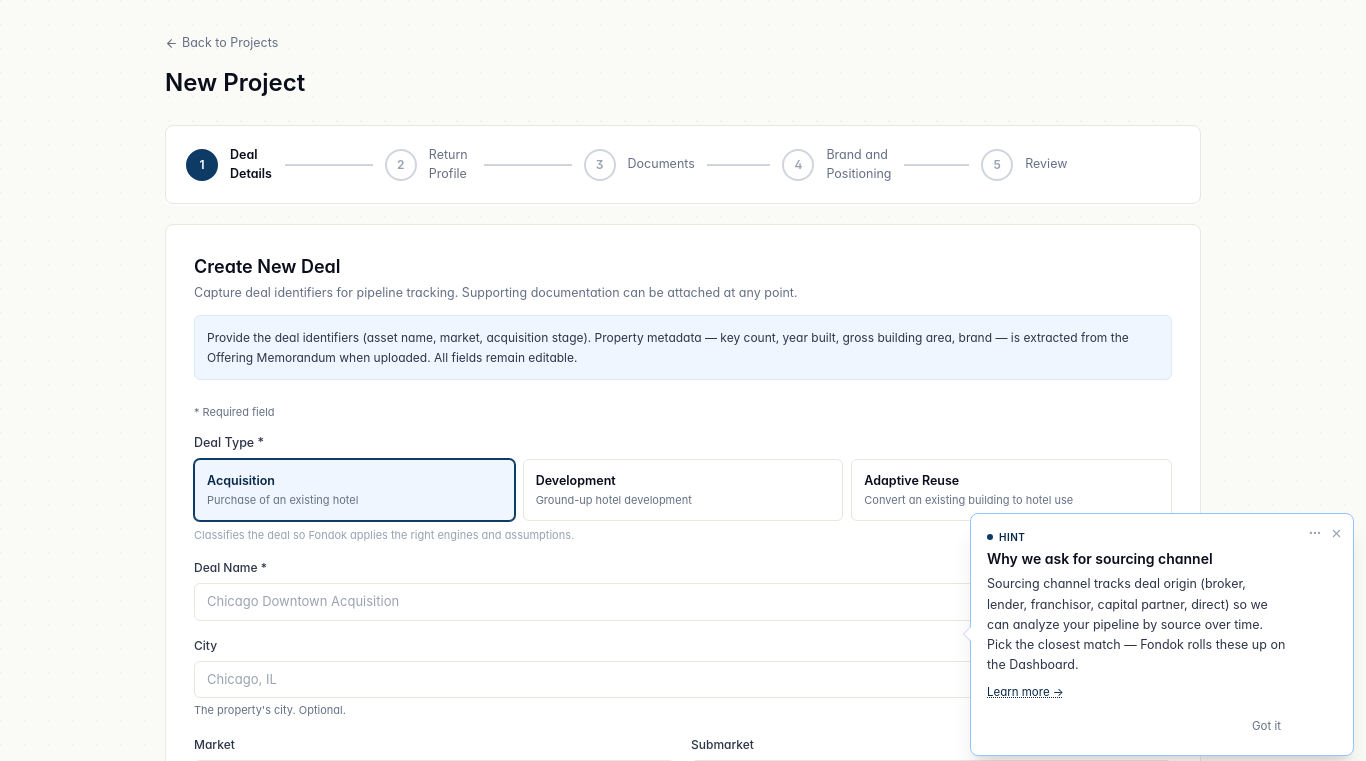
Scenario: FON-79 — the draft row is created on the first named autosave › creates the draft once the Deal Name is non-blank, keeps the pointer, drops the local draft
The width and height of the screenshot is (1366, 761).
Type "Autosaved Deal" into the field with placeholder "Chicago Downtown Acquisition" at [683, 602], box [194,583,1172,621]
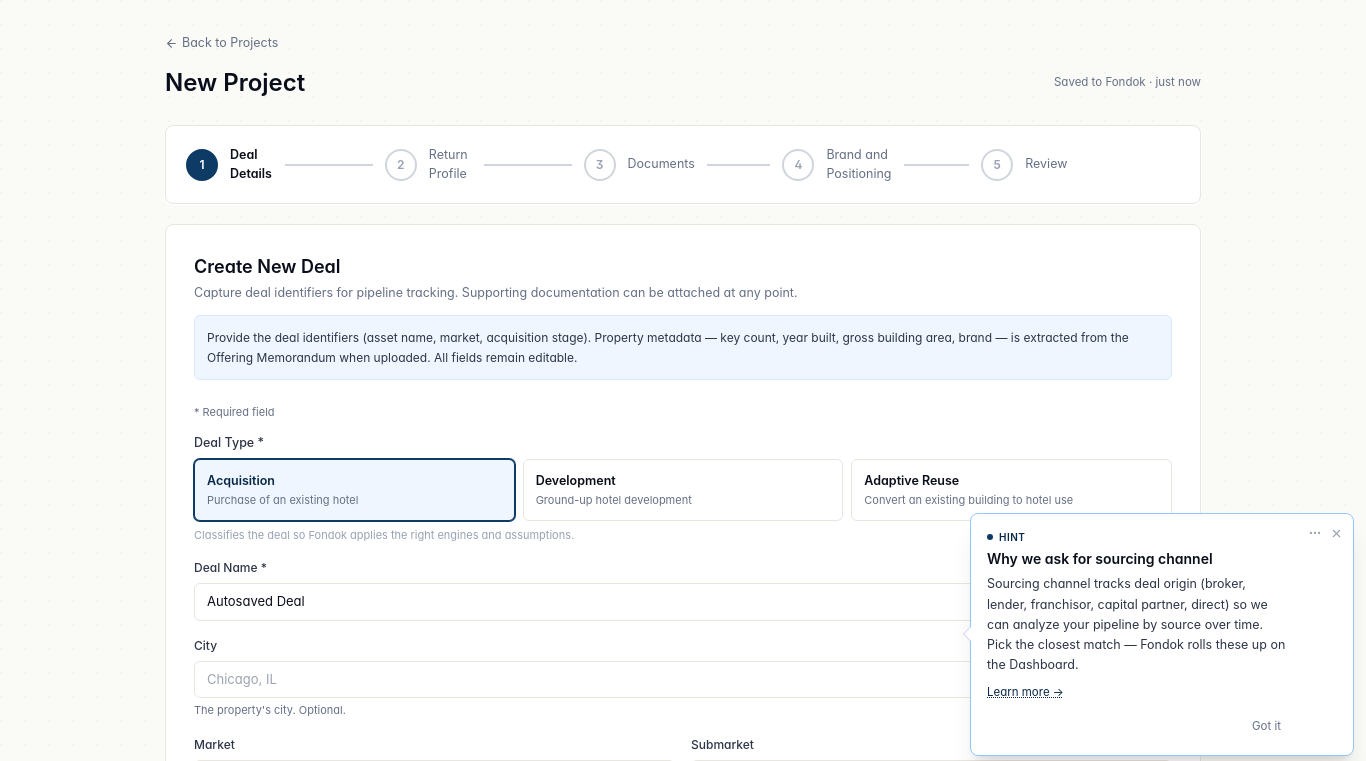
Now the text with test id "draft-save-status" reads "Saved to Fondok · just now", box [1054,75,1201,89]
